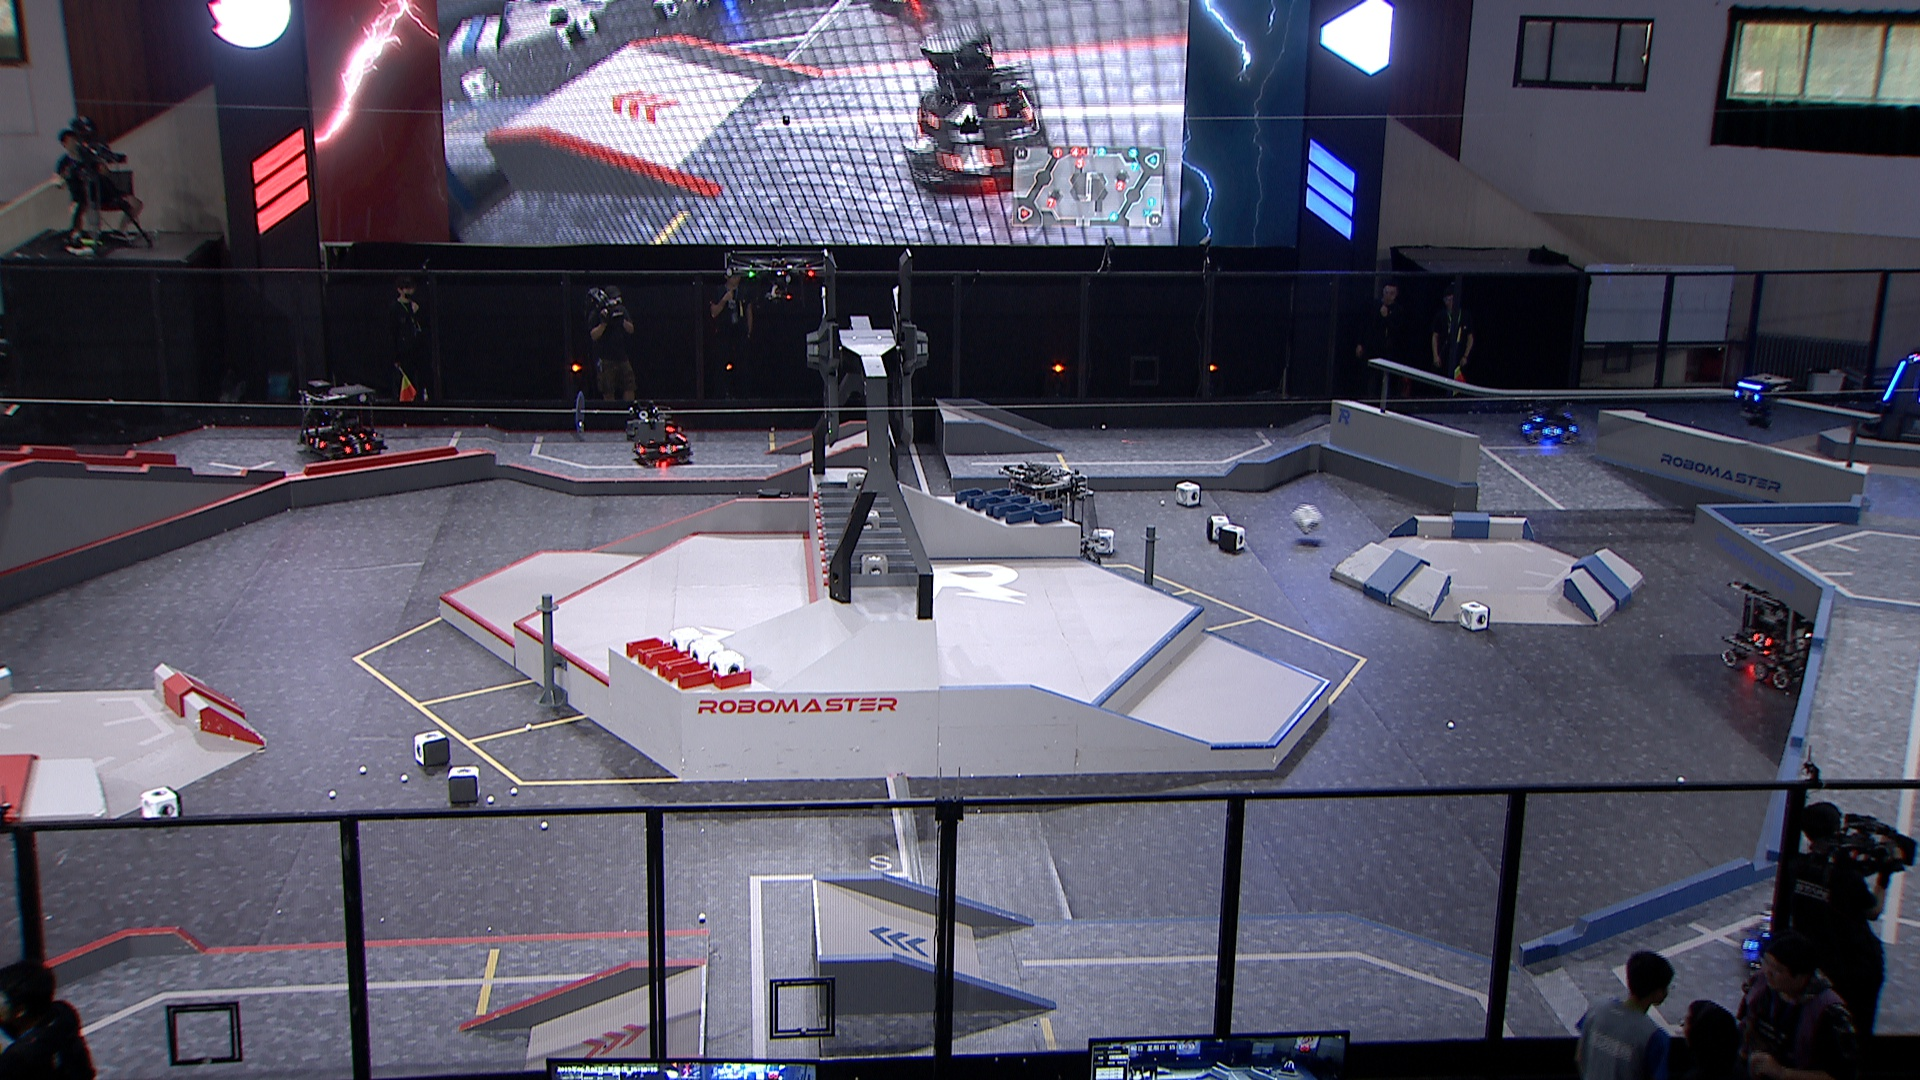armor: (1883, 360, 1908, 401), (344, 442, 375, 458), (1751, 632, 1774, 651), (1733, 389, 1760, 405), (338, 431, 367, 443), (1542, 425, 1565, 439), (309, 436, 327, 452), (659, 442, 678, 456), (632, 440, 646, 458), (1528, 411, 1544, 425)
base: (1855, 353, 1920, 447)
car: (1718, 571, 1851, 692), (998, 462, 1105, 575), (1741, 897, 1845, 986), (297, 380, 386, 460), (632, 409, 694, 467), (1519, 398, 1582, 446)
ignore: (905, 24, 1050, 189)
watcher: (1731, 371, 1788, 433)
